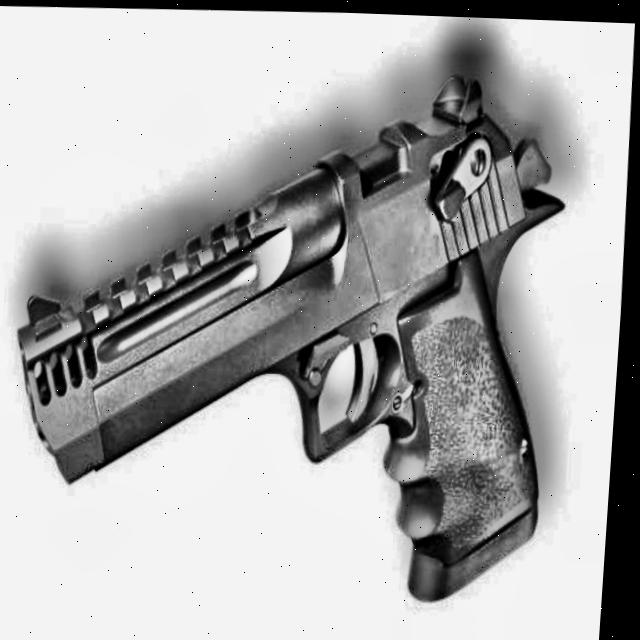pistol: (0, 39, 590, 629)
